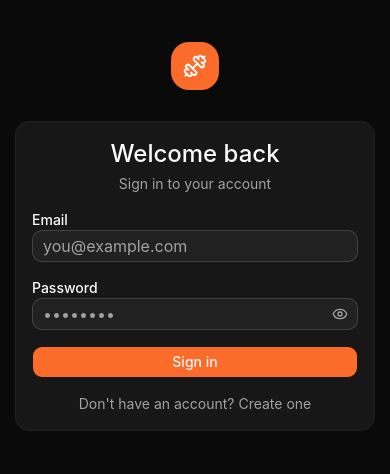
Test case: displays API error detail on failed login
Type "a@b.com" into the field labelled "Email" at (195, 246), box [32,230,358,262]
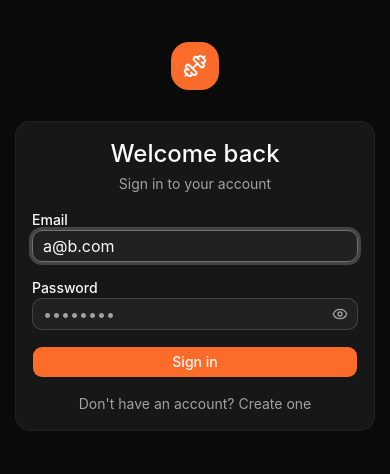
Type "wrong" into the password field labelled "Password" at (195, 314), box [32,298,358,330]
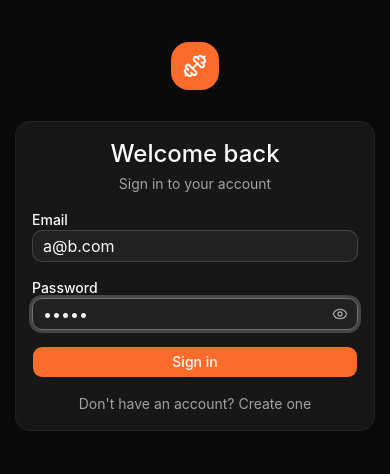
Click the button "Sign in" at (195, 362), box [32,346,358,378]
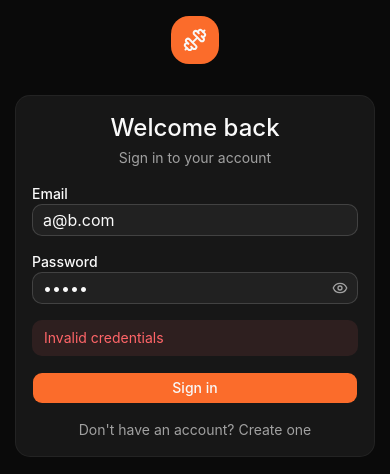
Check: the text "Invalid credentials" is shown, box [32,320,358,356]
